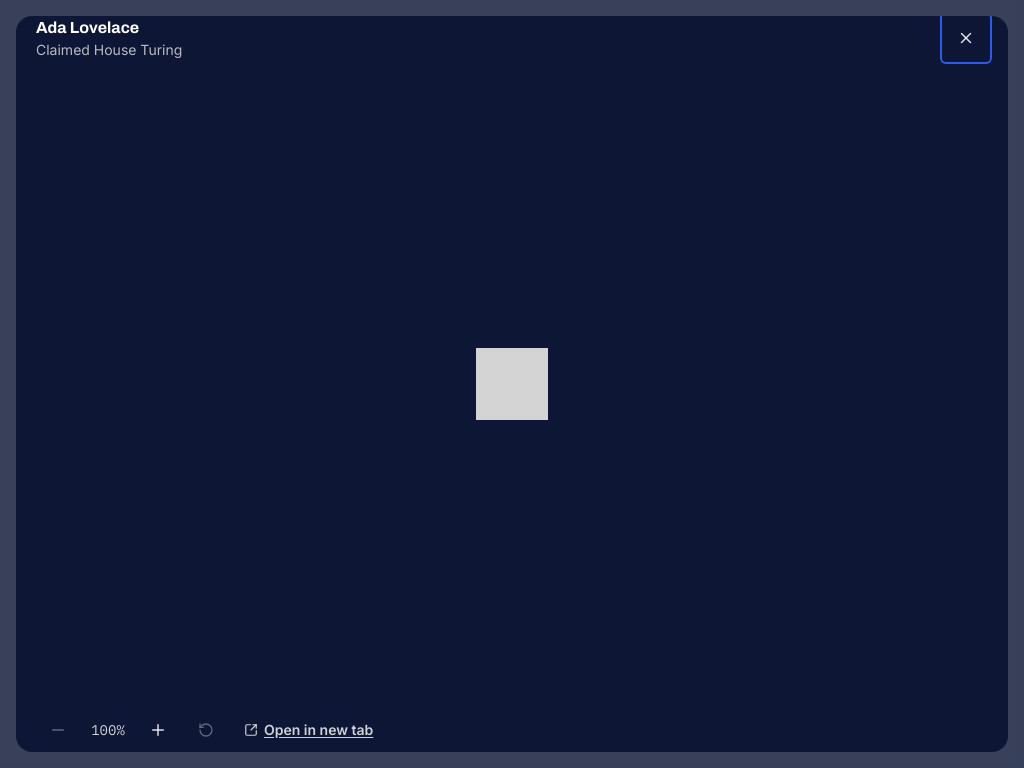
Test: zoom and pan, for a small or low-resolution capture › zooms in and back out, and reports the level
What coordinates should you click on to do the following:
click the button named "Zoom in"
I would click on:
 (158, 730)
Its box is 136,708 -> 180,752.
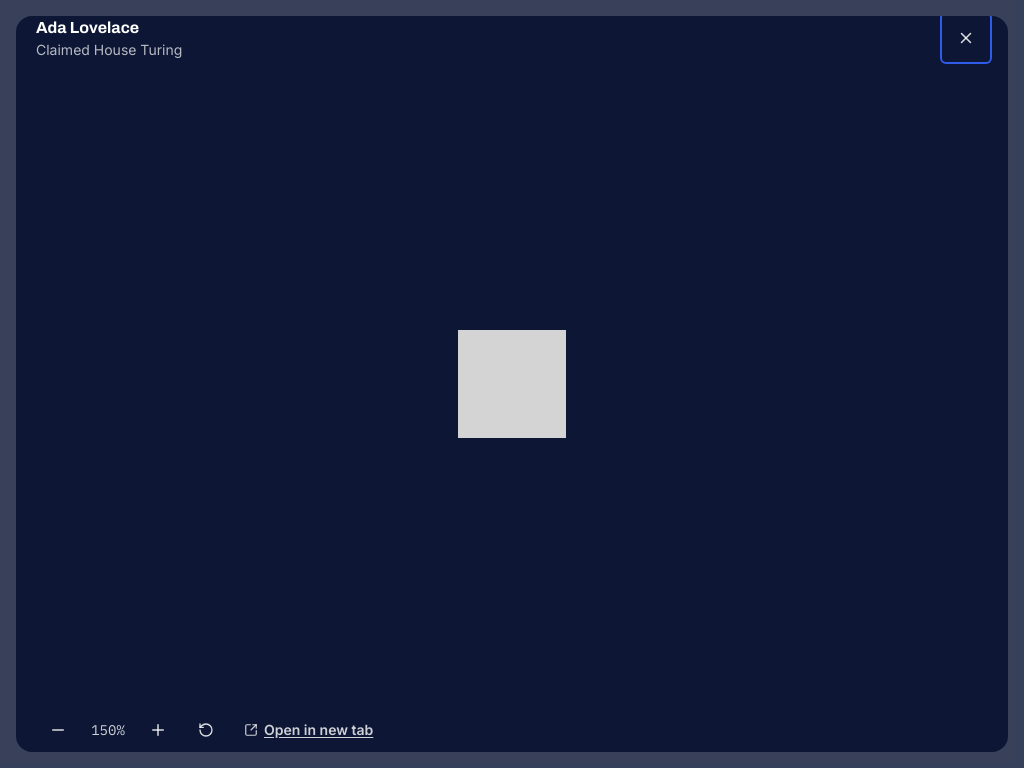
Expected: the text "150%" is shown, 91,721 -> 125,739
What coordinates should you click on to do the following:
click the button named "Zoom out"
I would click on:
 (58, 730)
Its box is 36,708 -> 80,752.
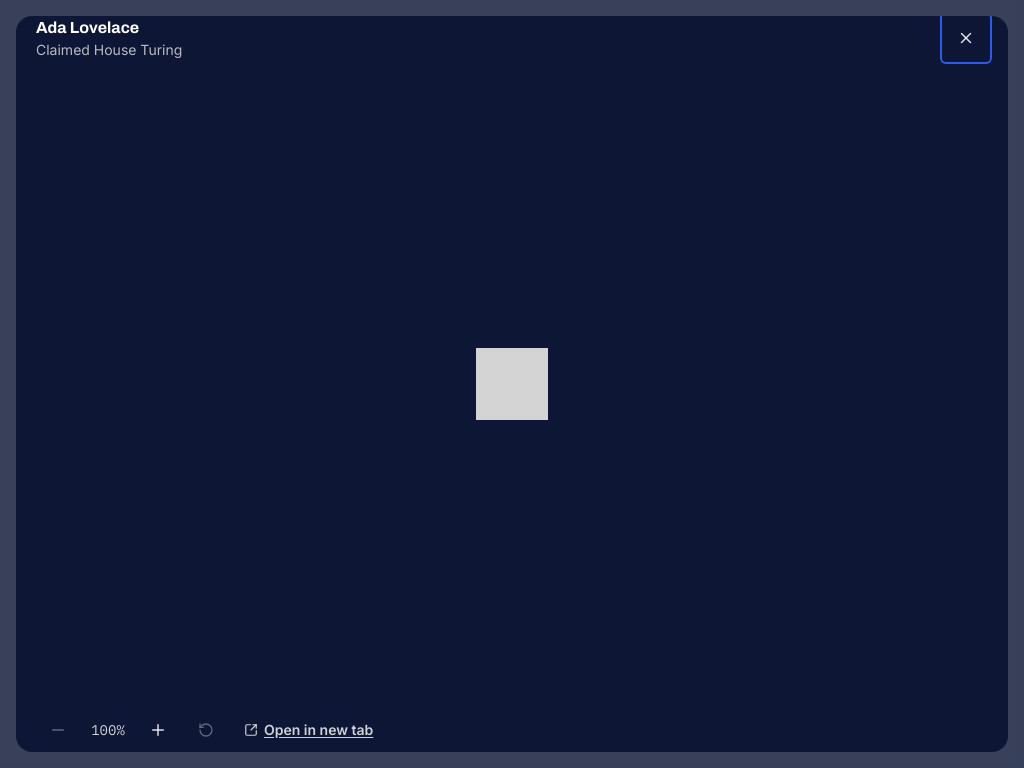
Expected: the text "100%" is shown, 91,721 -> 125,739
